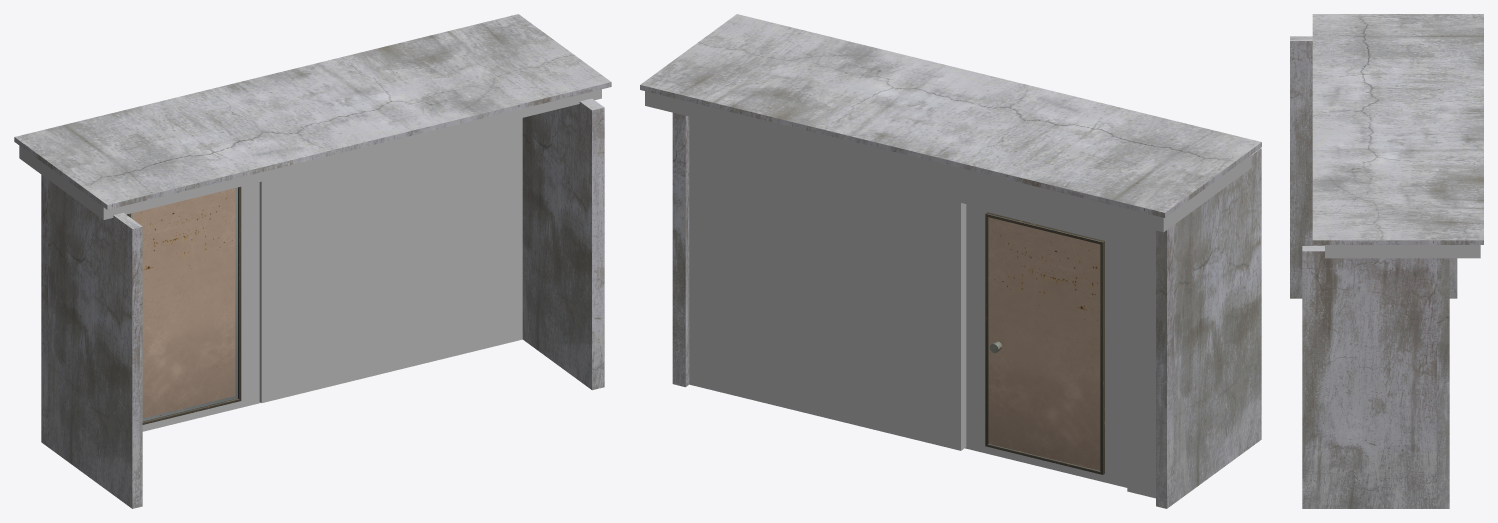
File: mallbil_backalley02a.fbx
3 renders of one model, left to right at view 1: azimuth 30°, elevation 25°; view 2: azimuth 150°, elevation 25°; view 3: azimuth 270°, elevation 25°, orthographic. The views are drawn at different scales.
Visible parts, largest first — view 1: mallbil_backalley02a; view 2: mallbil_backalley02a; view 3: mallbil_backalley02a.
Boxes of the visible parts, left/top/right/bottom form: mallbil_backalley02a: left=14, top=14, right=611, bottom=508; mallbil_backalley02a: left=640, top=14, right=1261, bottom=508; mallbil_backalley02a: left=1290, top=14, right=1483, bottom=508.
Bounding box in the file's own units: 562 × 319 × 203.
